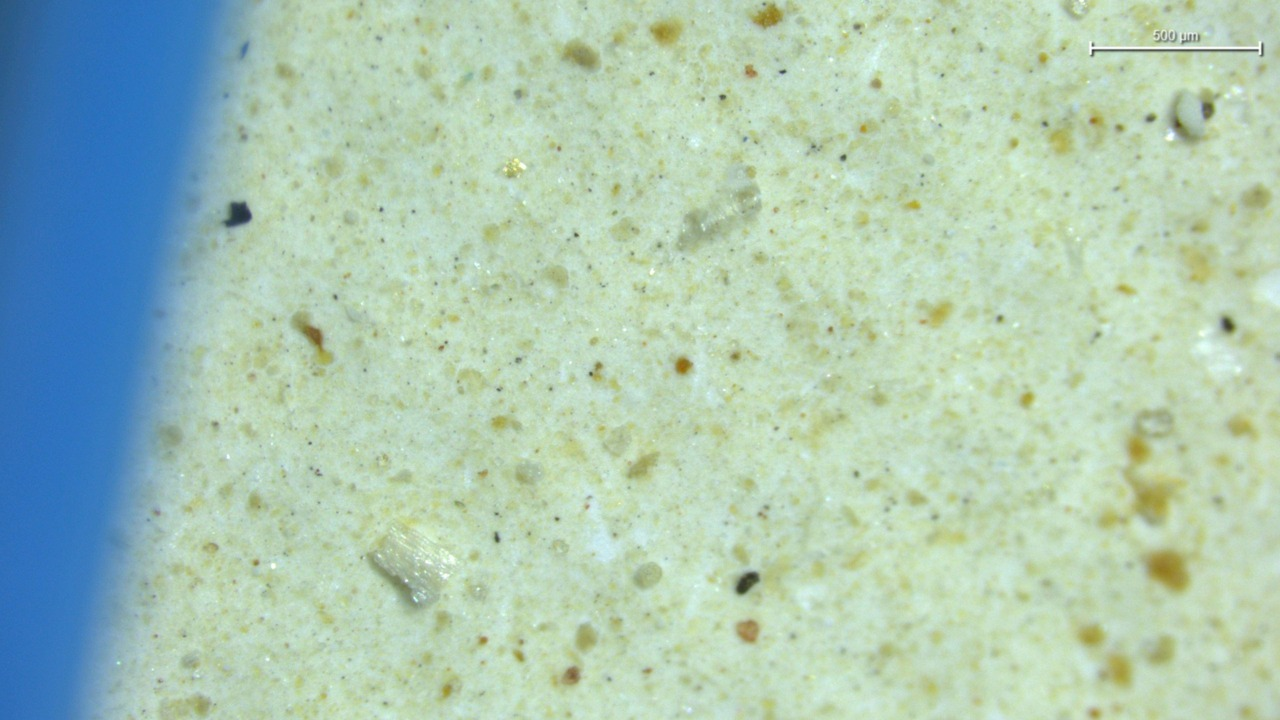microplastic_fragment: (367, 527, 459, 606), (680, 163, 761, 247), (1174, 91, 1205, 137)
